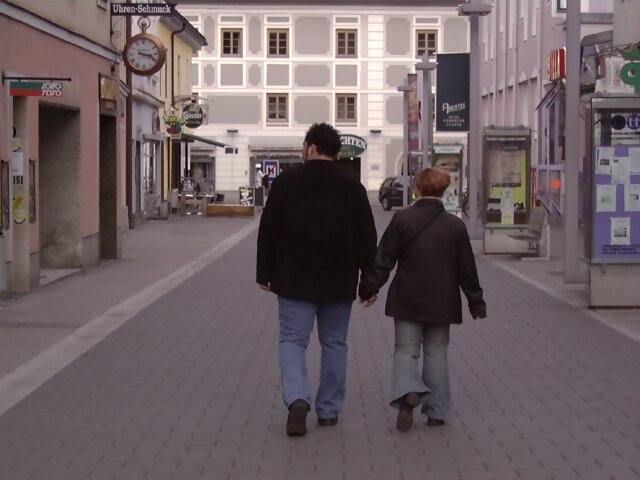person: (253, 116, 371, 442), (369, 163, 492, 432)
